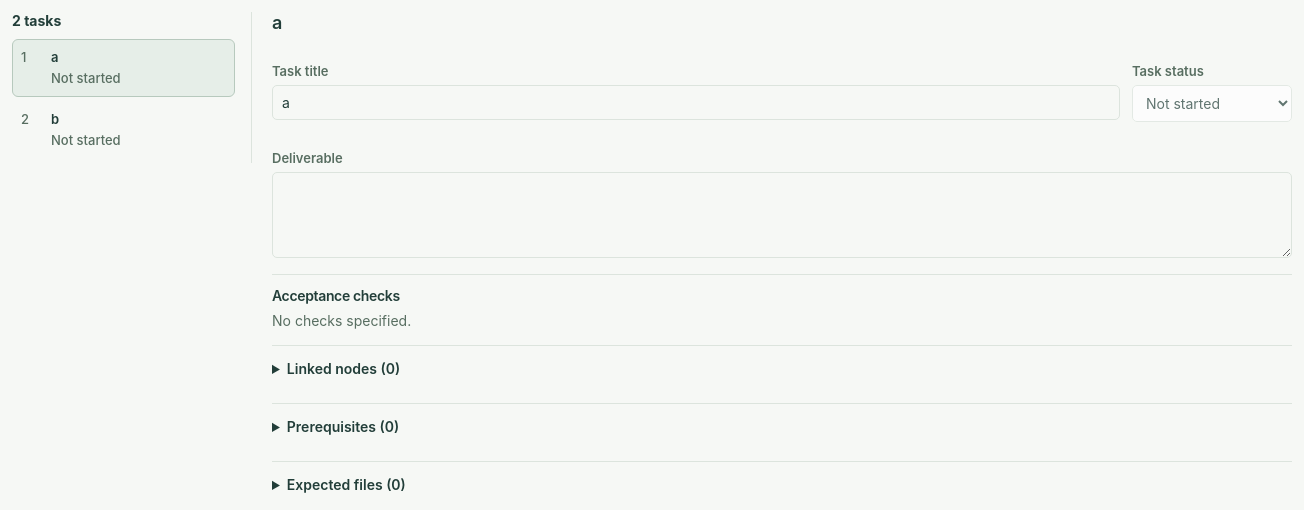
Test case: shared build task editor › renders readonly task comparisons without destructive controls
Click the button with aria-label "Task: b".
click(124, 130)  # box [12, 101, 235, 159]
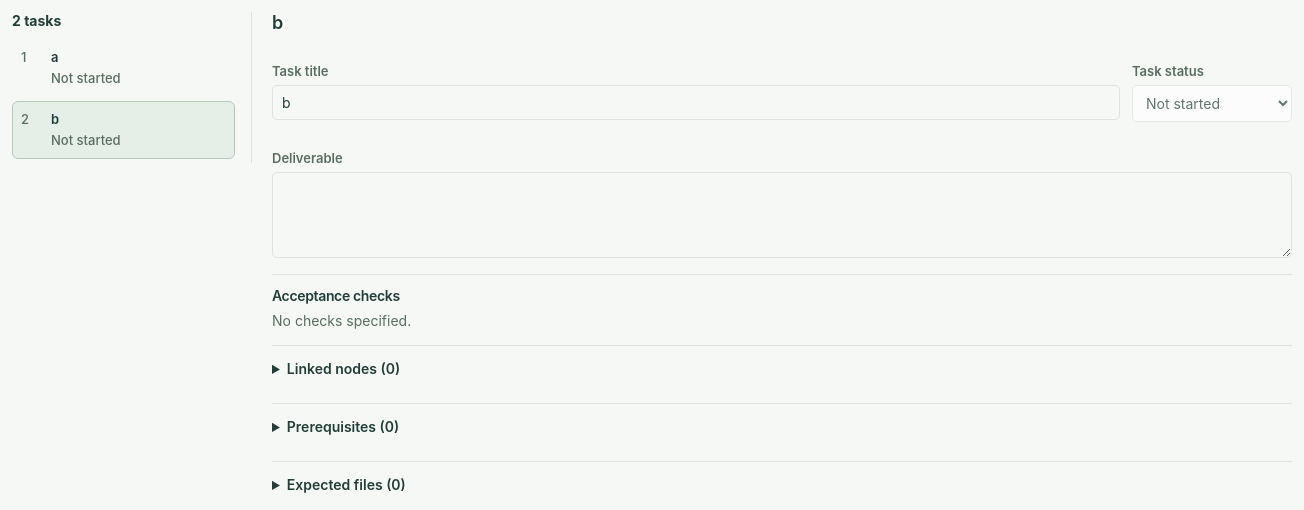
Expected: the field labelled "Task title" holds "b", [272, 85, 1120, 120]
